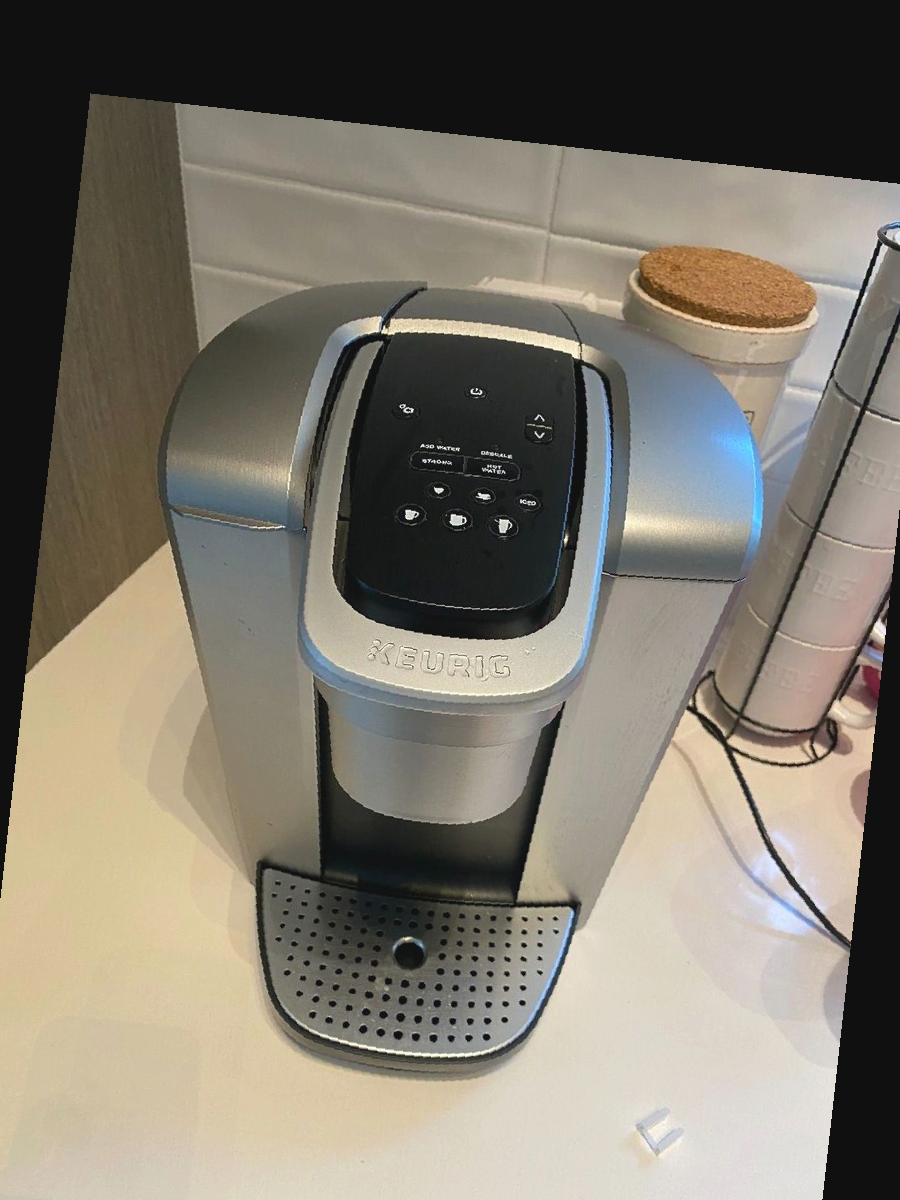10oz: (440, 507, 475, 535)
12oz: (484, 514, 525, 542)
4oz: (424, 480, 452, 501)
6oz: (469, 484, 500, 508)
8oz: (393, 502, 428, 530)
add_water: (406, 429, 467, 453)
descale: (467, 435, 528, 459)
hot: (464, 454, 526, 483)
iced: (514, 490, 545, 514)
power: (459, 377, 494, 408)
strong: (404, 448, 465, 477)
